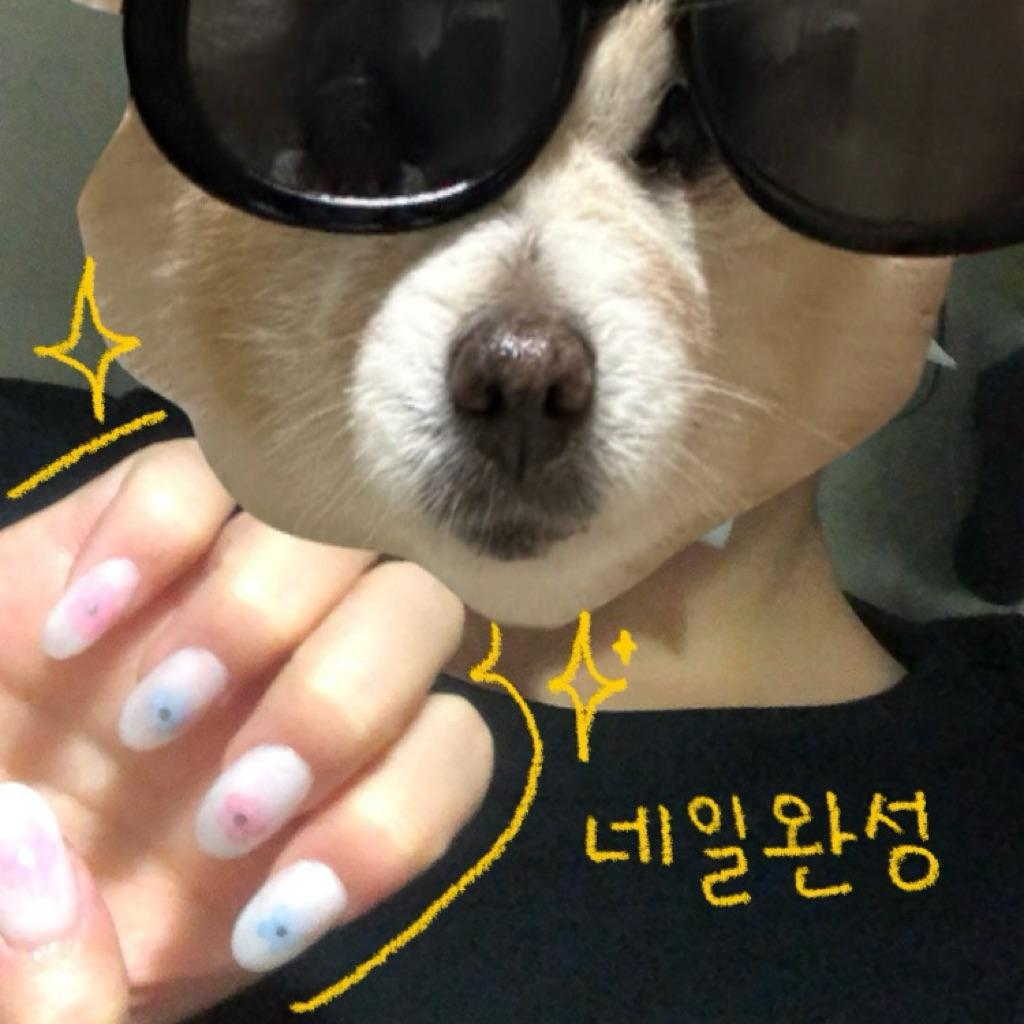nail: (193, 740, 313, 859), (228, 857, 348, 972), (0, 778, 80, 950), (116, 644, 229, 751), (40, 554, 141, 660)
